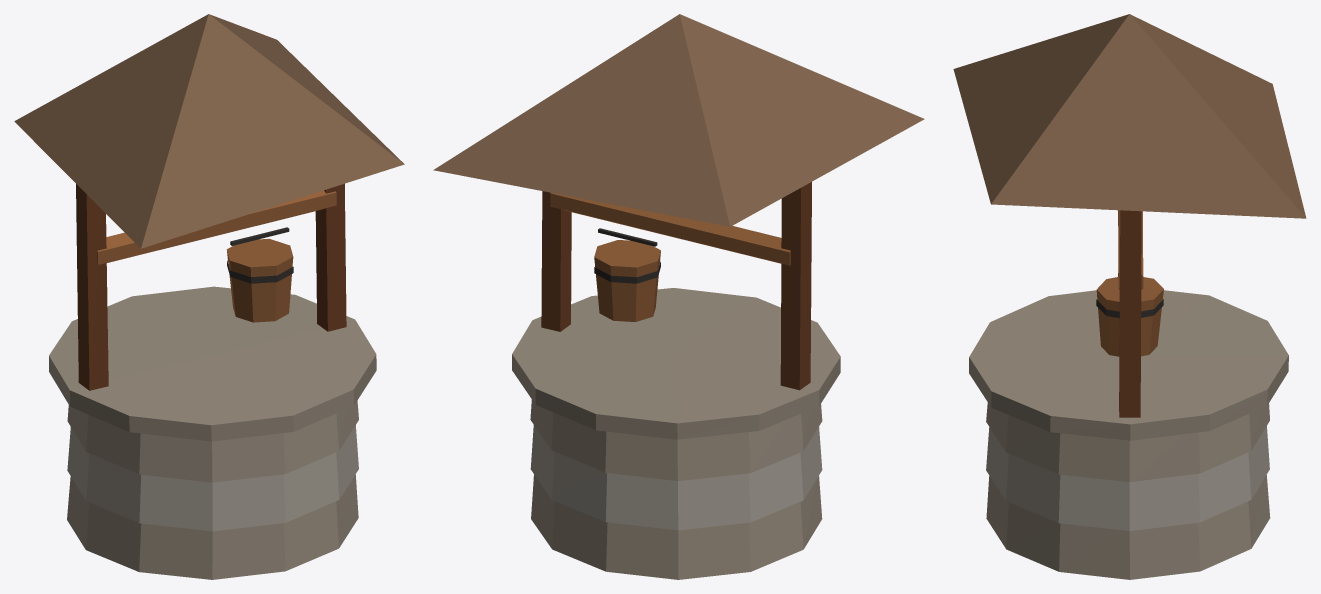
File: well.glb
The picture shows the model from 3 angles, left to right: view 1: azimuth 30°, elevation 25°; view 2: azimuth 150°, elevation 25°; view 3: azimuth 270°, elevation 25°; orthographic projection.
Parts seen in each view (by area): view 1: props/well; view 2: props/well; view 3: props/well.
Boxes of the visible parts, x1,y1,x2,y2 form: props/well: (14,14,404,579); props/well: (433,14,924,579); props/well: (953,14,1306,579).
Size of the model in its own units: 2.02 by 3.11 by 1.98.
